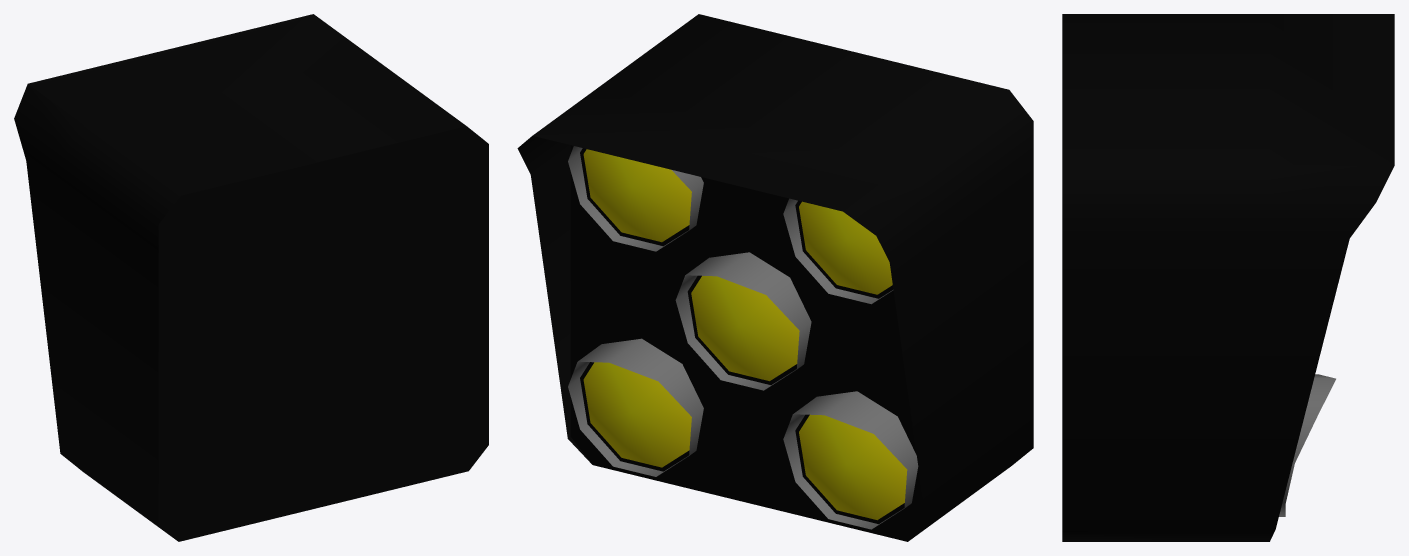
Rendered from SIGNAL_5.glb.
The picture shows the model from 3 angles, left to right: view 1: azimuth 30°, elevation 25°; view 2: azimuth 150°, elevation 25°; view 3: azimuth 270°, elevation 25°; orthographic projection. The views are drawn at different scales.
Parts seen in each view (by area): view 1: obj1; view 2: obj1; view 3: obj1.
Boxes of the visible parts, box(x1,y1,x2,y2) form: obj1: box(14, 14, 488, 541); obj1: box(517, 14, 1033, 541); obj1: box(1062, 14, 1394, 541).
Bounding box in the file's own units: 2 × 2 × 1.61.
2 materials, 2 textured.
